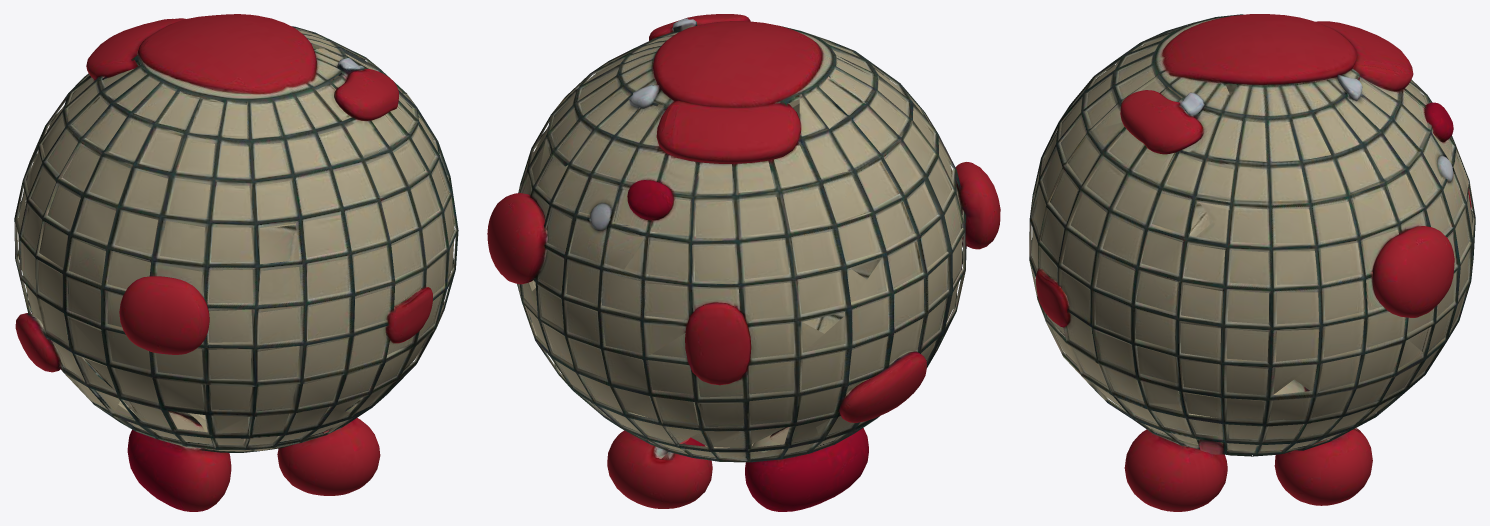
Rendered from env_nest_disco_01.glb.
3 views of the same model, side by side, from view 1: azimuth 30°, elevation 25°; view 2: azimuth 150°, elevation 25°; view 3: azimuth 270°, elevation 25° (orthographic).
Visible parts, largest first — view 1: env_nest_disco_01; view 2: env_nest_disco_01; view 3: env_nest_disco_01.
Part boxes in pixels (x1,y1,x2,y2): env_nest_disco_01: [14, 14, 458, 511]; env_nest_disco_01: [487, 14, 1000, 511]; env_nest_disco_01: [1029, 14, 1475, 511].
Size of the model in its own units: 1.67 by 1.8 by 1.65.
1 material, 1 textured.
